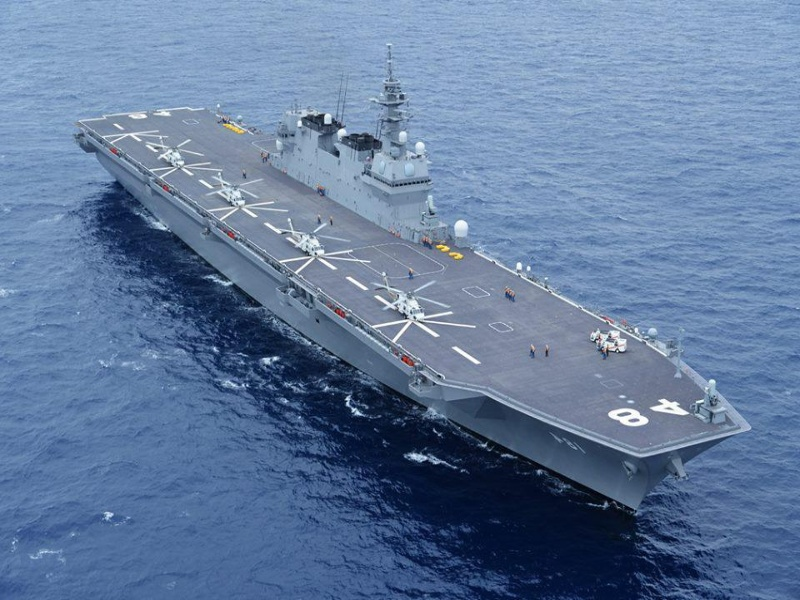carrier: (76, 68, 751, 512)
